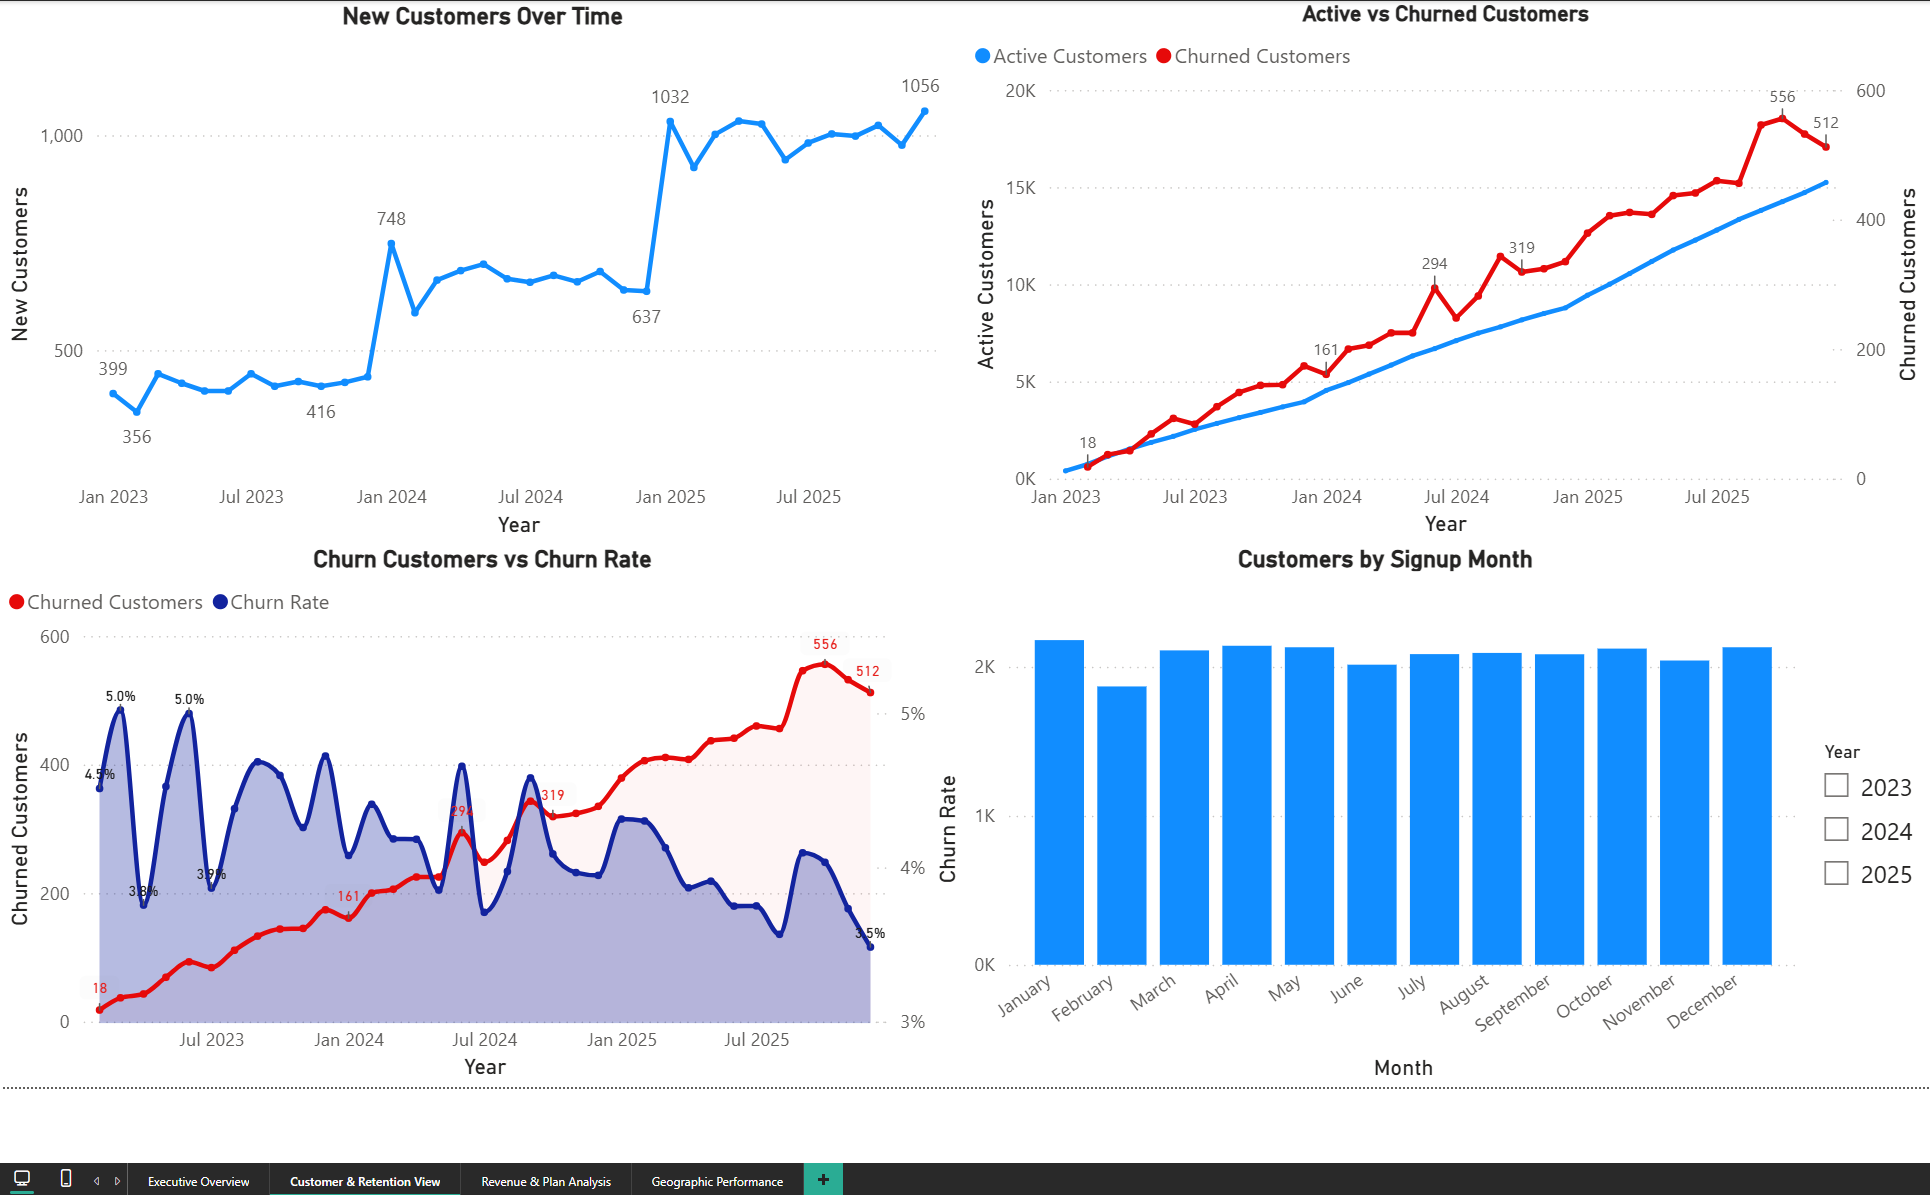

Layout of this report page (visuals, bound fields, positions):
{"tool":"powerbi","page":{"name":"Customer & Retention View","canvas":[1280,720],"ordinal":1},"visuals":[{"type":"lineChart","title":"New Customers Over Time","fields":{"Y":["Just Measures.New Customers"],"Category":["DateTable.Date.Variation.Date Hierarchy.Year","DateTable.Date.Variation.Date Hierarchy.Month"]},"box":[0,0,640,359.9],"z":0},{"type":"lineChart","title":"Churn Customers vs Churn Rate","fields":{"Y":["Just Measures.Churned Customers"],"Category":["DateTable.Date.Variation.Date Hierarchy.Year","DateTable.Date.Variation.Date Hierarchy.Month"],"Y2":["Just Measures.Churn Rate"]},"box":[0,359.9,640,359.9],"z":1000},{"type":"lineChart","title":"Active vs Churned Customers","fields":{"Category":["DateTable.Date.Variation.Date Hierarchy.Year","DateTable.Date.Variation.Date Hierarchy.Month"],"Y":["Just Measures.Active Customers"],"Y2":["Just Measures.Churned Customers"]},"box":[640,0,636.1,359.9],"z":2000},{"type":"lineClusteredColumnComboChart","title":"Customers by Signup Month","fields":{"Category":["DateTable.Date.Variation.Date Hierarchy.Year","DateTable.Date.Variation.Date Hierarchy.Month"],"Y":["Count(customers.CustomerID)"]},"box":[640,359.9,556.2,359.9],"z":3000},{"type":"slicer","fields":{"Values":["DateTable.Year"]},"box":[1196.2,485.6,83.8,148.5],"z":4000}]}

Visuals, with their boxes on the page's 1280x720 design canvas (x1, y1, x2, y2). These are canvas units, not pixel positions in the 1930x1195 screenshot, which may show the page scaled, cropped or inside an application window:
"New Customers Over Time" lineChart: 0/0/640/360
"Churn Customers vs Churn Rate" lineChart: 0/360/640/720
"Active vs Churned Customers" lineChart: 640/0/1276/360
"Customers by Signup Month" lineClusteredColumnComboChart: 640/360/1196/720
slicer - DateTable.Year: 1196/486/1280/634
